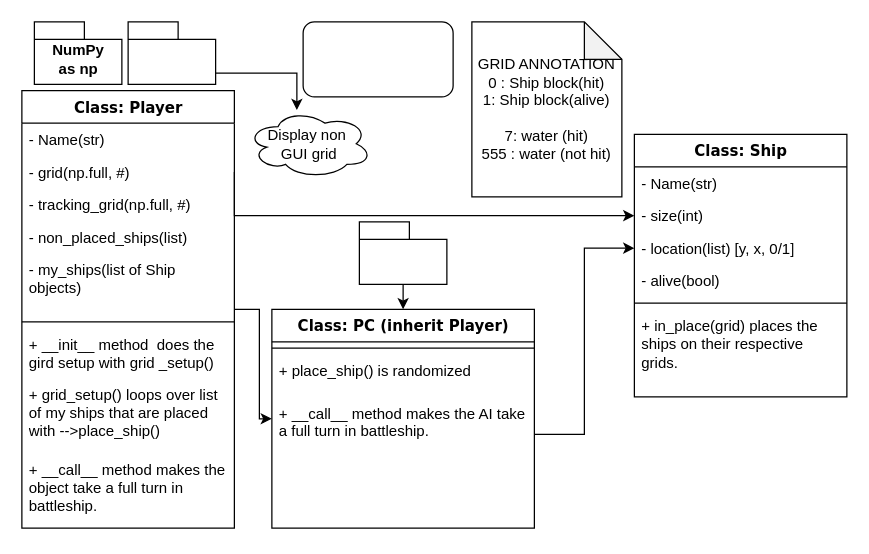
The diagram is 869 pixels wide and 554 high, and some of its shapes have lost their labels. Here are the shapes that lost their labels. From the top down, the centre of each, then its label:
(171,52): Pandas as pd
(377,59): BACK-END
(402,252): import random
